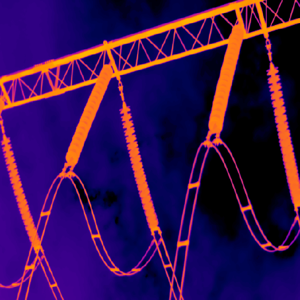insulator: (265, 58, 300, 208), (119, 101, 158, 231), (64, 62, 112, 165), (0, 133, 41, 250), (206, 24, 244, 133)
